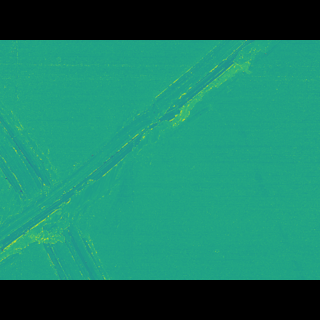Loch: (0, 68, 286, 242), (0, 114, 112, 250)
